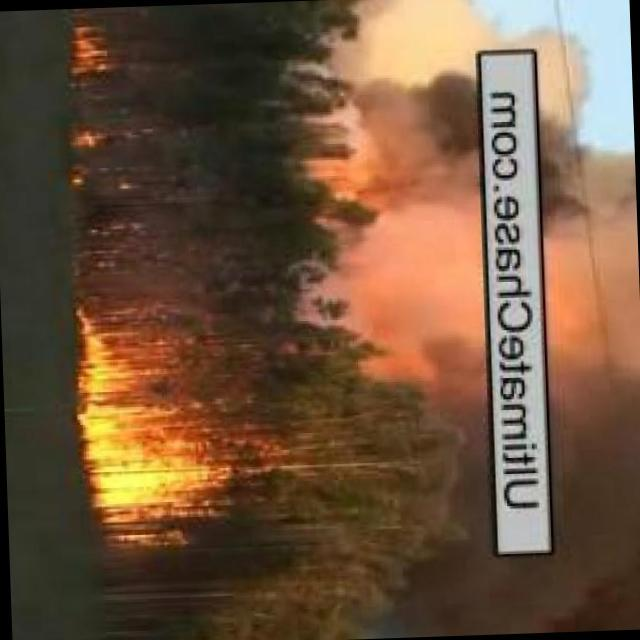Fire: (81, 324, 231, 507), (66, 126, 138, 193), (341, 170, 407, 212), (67, 28, 105, 79)
